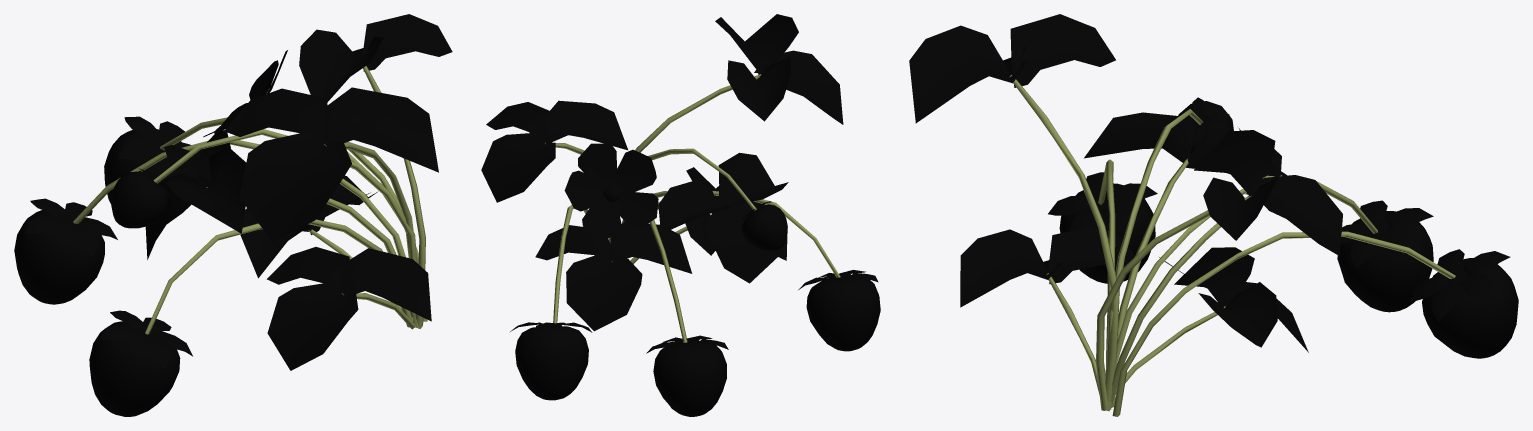
File: MatureStrawberry.gltf
3 renders of one model, left to right at view 1: azimuth 30°, elevation 25°; view 2: azimuth 150°, elevation 25°; view 3: azimuth 270°, elevation 25°, orthographic. The views are drawn at different scales.
Visible parts, largest first — view 1: Strawberry_mature; view 2: Strawberry_mature; view 3: Strawberry_mature.
Boxes of the visible parts, <box> form: Strawberry_mature: <box>14,14,452,416</box>; Strawberry_mature: <box>481,14,880,416</box>; Strawberry_mature: <box>909,14,1518,416</box>.
Bounding box in the file's own units: 0.2713 × 0.1927 × 0.3241.
